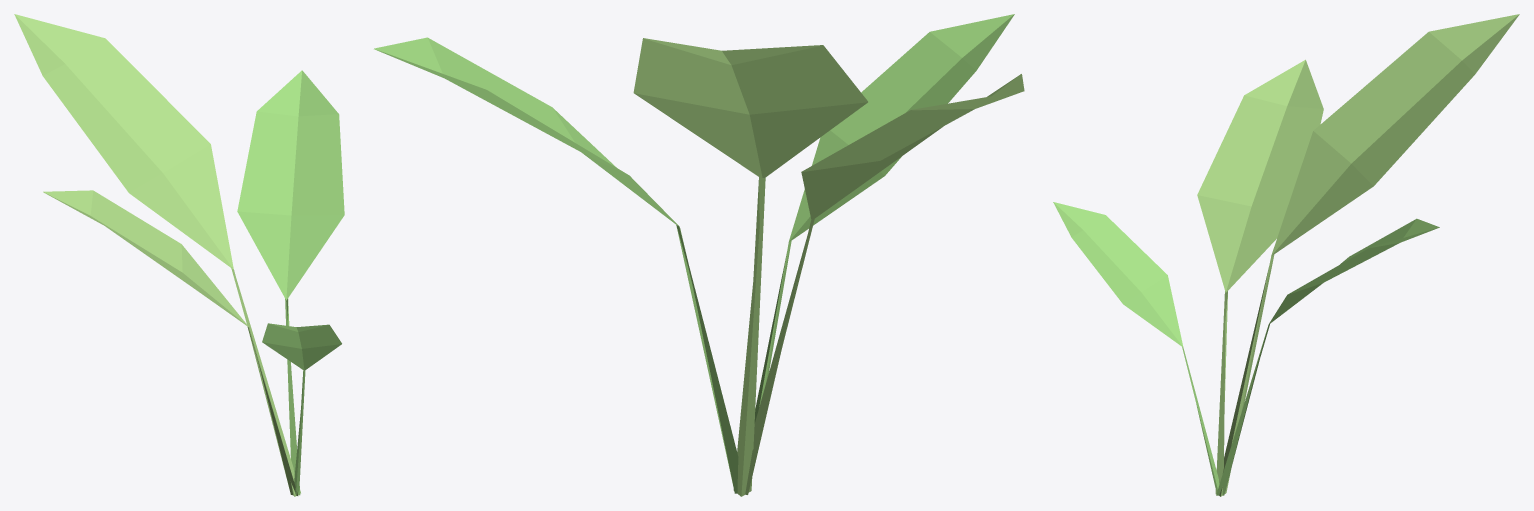
File: Plant_j_TwoS_09.fbx
3 views of the same model, side by side, from view 1: azimuth 30°, elevation 25°; view 2: azimuth 150°, elevation 25°; view 3: azimuth 270°, elevation 25° (orthographic). The views are drawn at different scales.
Parts seen in each view (by area): view 1: Plant_j_TwoS_09; view 2: Plant_j_TwoS_09; view 3: Plant_j_TwoS_09.
Boxes of the visible parts, <box> form: Plant_j_TwoS_09: <box>14,14,344,496</box>; Plant_j_TwoS_09: <box>374,14,1024,496</box>; Plant_j_TwoS_09: <box>1053,14,1519,496</box>.
Size of the model in its own units: 0.2799 by 0.3311 by 0.3389.
